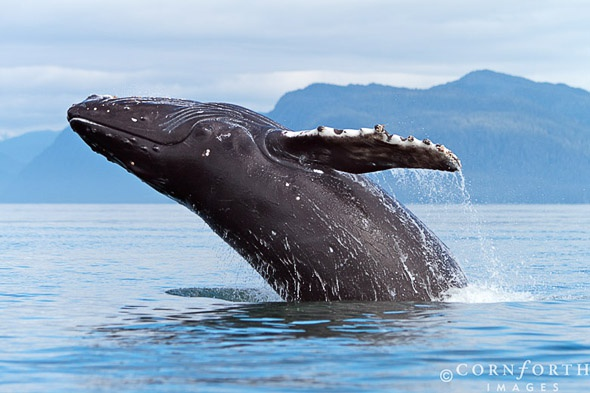humpback: (66, 93, 473, 302)
